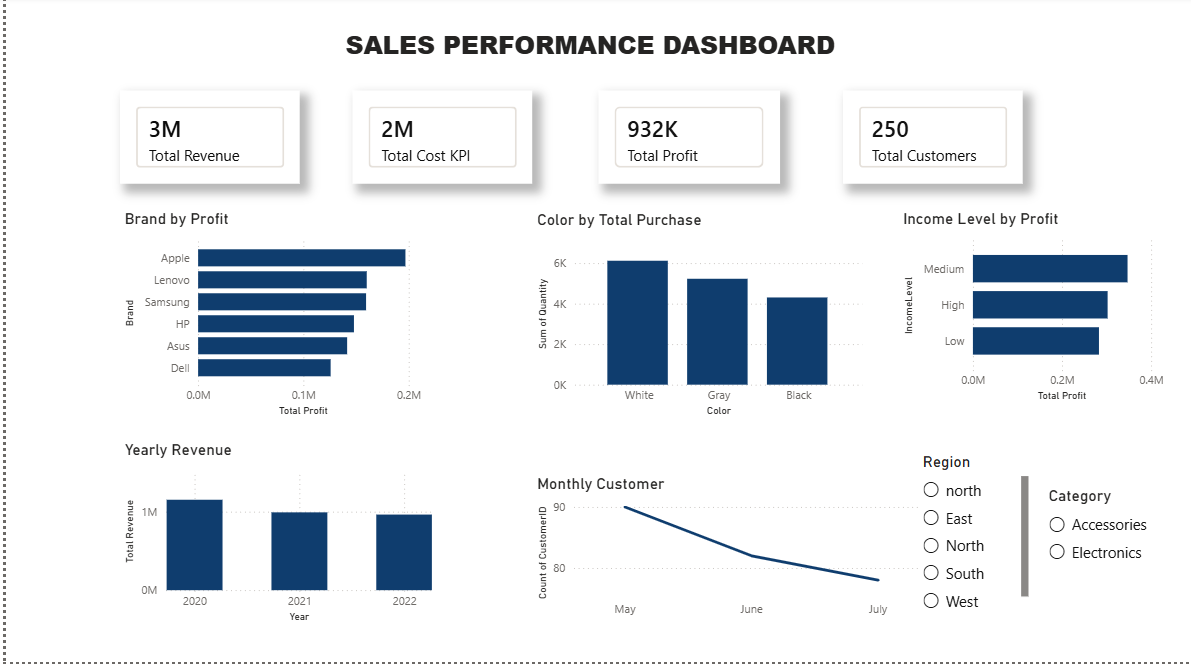

The dashboard page shown, as its layout file describes it:
{"tool":"powerbi","page":{"name":"Page 1","canvas":[1280,720],"ordinal":0},"visuals":[{"type":"cardVisual","fields":{"Data":["Sales.Total Revenue"]},"box":[123.1,102,194.3,100.4],"z":0},{"type":"cardVisual","fields":{"Data":["Sales.Total Cost KPI"]},"box":[374,102,194.3,100.4],"z":1000},{"type":"cardVisual","fields":{"Data":["Sales.Total Profit"]},"box":[639.6,102,195.9,100.4],"z":2000},{"type":"cardVisual","fields":{"Data":["Sales.Total Customers"]},"box":[903.5,102,194.3,100.4],"z":3000},{"type":"clusteredBarChart","title":"Brand by Profit","fields":{"Category":["Products.Brand"],"Y":["Sales.Total Profit"]},"box":[123.1,229.9,330.3,228.3],"z":4000},{"type":"clusteredColumnChart","title":"Color by Total Purchase","fields":{"Category":["Products.Color"],"Y":["Sum(Sales.Quantity)"]},"box":[568.3,231.5,361.1,226.7],"z":5000},{"type":"clusteredColumnChart","title":"Yearly Revenue","fields":{"Y":["Sales.Total Revenue"],"Category":["Customers.SignupDate.Variation.Date Hierarchy.Year"]},"box":[123.1,479.3,341.7,200.8],"z":6000},{"type":"lineChart","title":"Monthly Customer","fields":{"Y":["Count(Customers.CustomerID)"],"Category":["Customers.SignupDate.Variation.Date Hierarchy.Month"]},"box":[568.3,516.5,432.3,163.5],"z":7000},{"type":"clusteredBarChart","title":"Income Level by Profit","fields":{"Y":["Sales.Total Profit"],"Category":["Customers.IncomeLevel"]},"box":[963.4,229.9,291.5,212.1],"z":8000},{"type":"listSlicer","fields":{"Values":["Customers.Region"]},"box":[984.5,492.2,124.7,173.3],"z":9000},{"type":"listSlicer","fields":{"Values":["Products.Category"]},"box":[1120.5,529.5,134.4,100.4],"z":10000},{"type":"textbox","box":[331.9,27.5,597.5,53.4],"z":11000}]}

Visuals, with their boxes in screenshot pixels (x1, y1, x2, y2), scaled from the page's 1280x720 canvas onto the 1191x664 screenshot:
cardVisual - Sales.Total Revenue: <box>115,94,295,187</box>
cardVisual - Sales.Total Cost KPI: <box>348,94,529,187</box>
cardVisual - Sales.Total Profit: <box>595,94,777,187</box>
cardVisual - Sales.Total Customers: <box>841,94,1021,187</box>
"Brand by Profit" clusteredBarChart: <box>115,212,422,423</box>
"Color by Total Purchase" clusteredColumnChart: <box>529,213,865,423</box>
"Yearly Revenue" clusteredColumnChart: <box>115,442,432,627</box>
"Monthly Customer" lineChart: <box>529,476,931,627</box>
"Income Level by Profit" clusteredBarChart: <box>896,212,1168,408</box>
listSlicer - Customers.Region: <box>916,454,1032,614</box>
listSlicer - Products.Category: <box>1043,488,1168,581</box>
textbox: <box>309,25,865,75</box>
